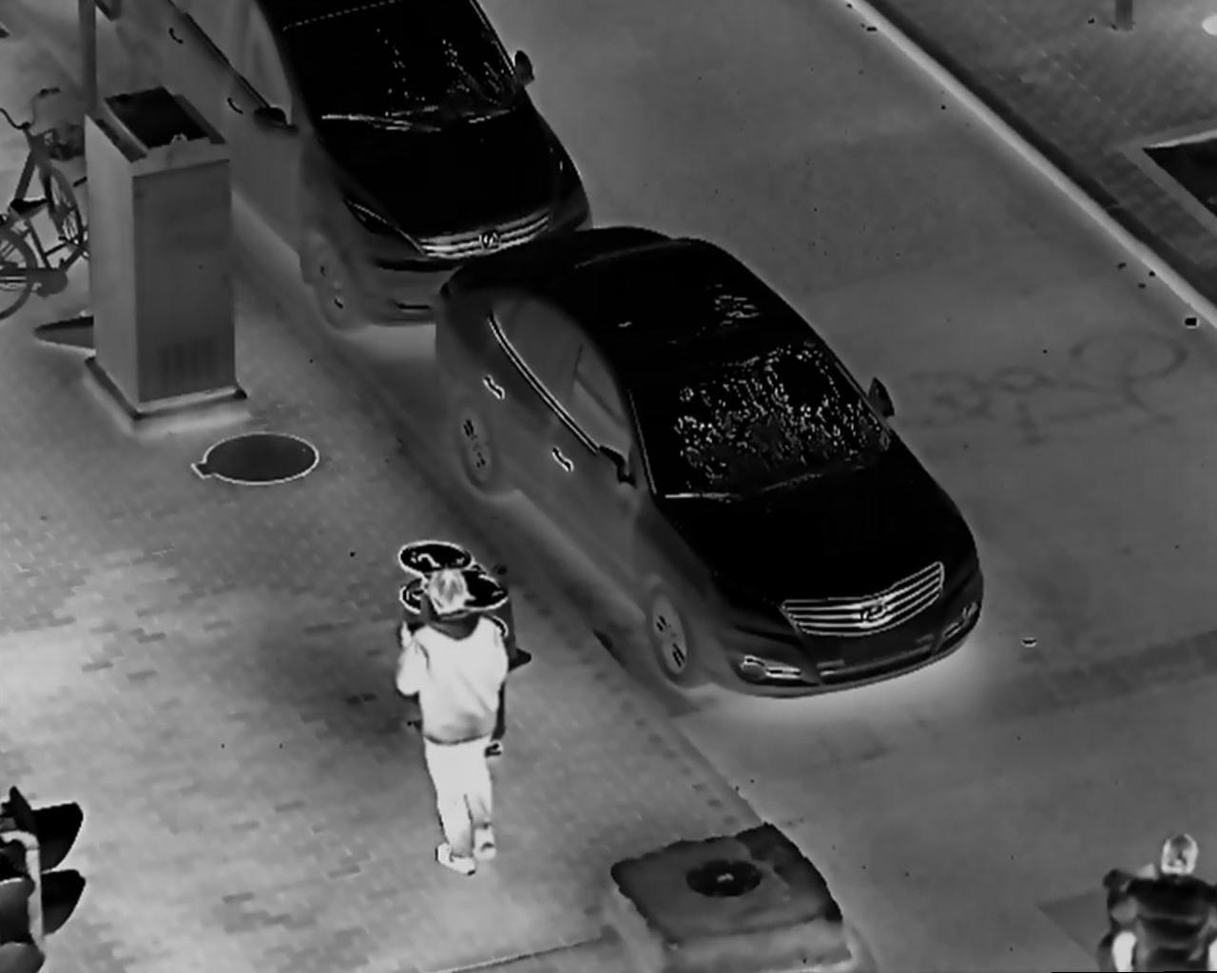person: (386, 568, 516, 879), (1099, 823, 1216, 973)
